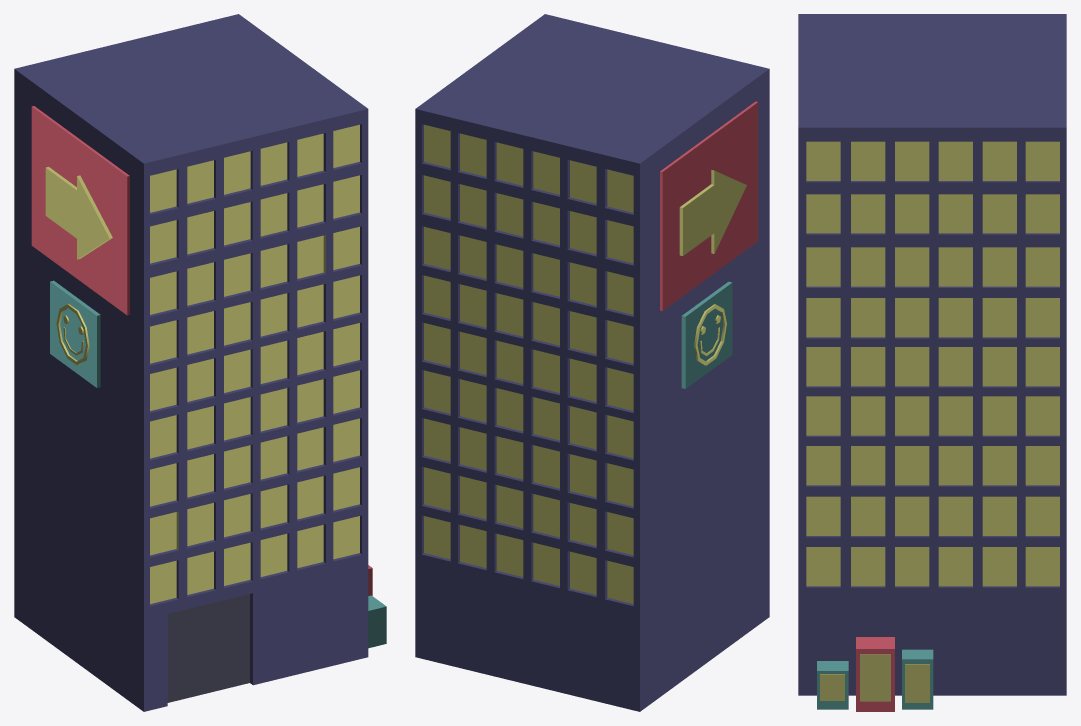
File: SM_House_3_2.fbx
3 renders of one model, left to right at view 1: azimuth 30°, elevation 25°; view 2: azimuth 150°, elevation 25°; view 3: azimuth 270°, elevation 25°, orthographic. The views are drawn at different scales.
Parts seen in each view (by area): view 1: SM_House_3_2; view 2: SM_House_3_2; view 3: SM_House_3_2.
Part boxes in pixels (<box>): SM_House_3_2: <box>14,14,386,711</box>; SM_House_3_2: <box>415,14,769,711</box>; SM_House_3_2: <box>798,14,1066,711</box>.
Size of the model in its own units: 7.07 by 14 by 6.
